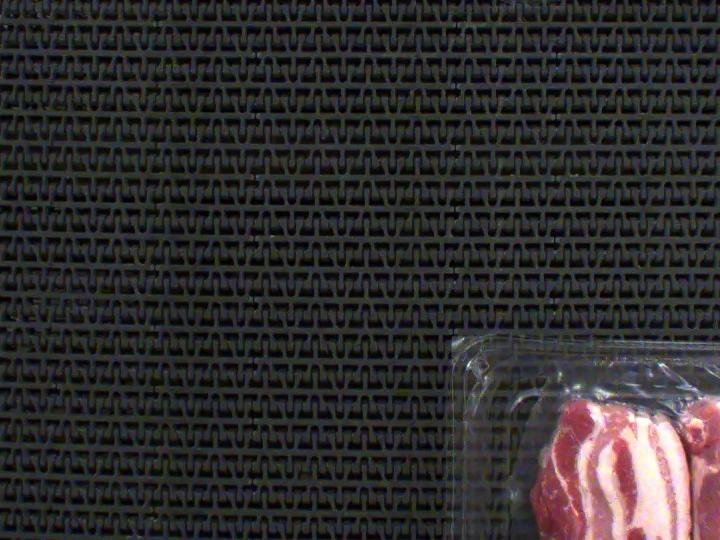unsealed: (490, 337, 720, 540)
